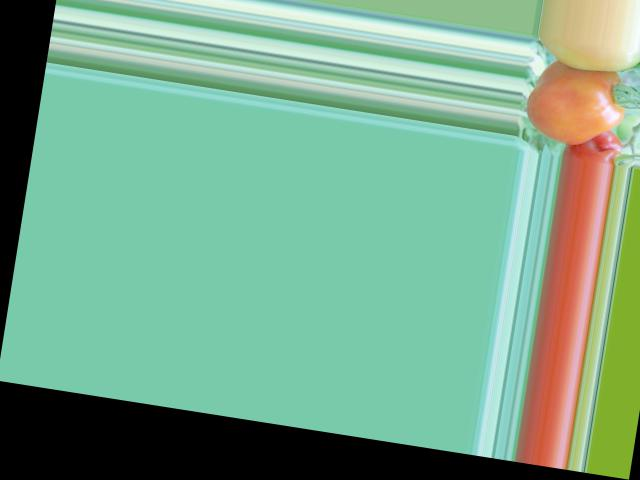tomato: (522, 60, 630, 151)
